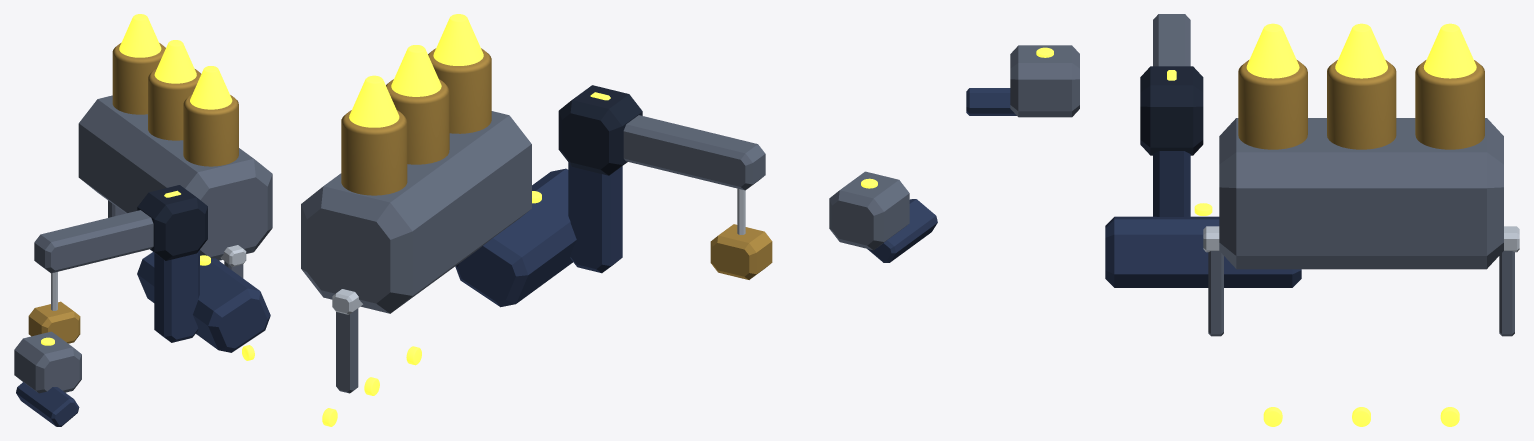
The model's file is tower_nova_rate_s7.glb.
3 renders of one model, left to right at view 1: azimuth 30°, elevation 25°; view 2: azimuth 150°, elevation 25°; view 3: azimuth 270°, elevation 25°, orthographic. The views are drawn at different scales.
Parts seen in each view (by area): view 1: nova_hopper_ext, nova_hoist_chute_b, nova_hoist_arm, nova_hoist_motor, nova_hoist_post, nova_shell_b0, nova_ejector_box, nova_shell_b2, nova_shell_b1, nova_ejector_chute, nova_hoist_grab, nova_shell_b_fuse1 (+4 smaller); view 2: nova_hopper_ext, nova_hoist_chute_b, nova_hoist_arm, nova_hoist_motor, nova_hoist_post, nova_ejector_box, nova_shell_b2, nova_shell_b1, nova_shell_b0, nova_hoist_grab, nova_hoist_rail_post0.46, nova_shell_b_fuse2 (+3 smaller); view 3: nova_hopper_ext, nova_hoist_chute_b, nova_hoist_motor, nova_shell_b0, nova_shell_b2, nova_shell_b1, nova_ejector_box, nova_hoist_post, nova_shell_b_fuse0, nova_shell_b_fuse2, nova_shell_b_fuse1, nova_hoist_arm (+4 smaller).
Part boxes in pixels (x1,y1,x2,y2): nova_hopper_ext: (78, 95, 272, 260); nova_hoist_chute_b: (137, 252, 270, 352); nova_hoist_arm: (34, 210, 153, 273); nova_hoist_motor: (137, 185, 207, 260); nova_hoist_post: (154, 250, 199, 342); nova_shell_b0: (183, 95, 238, 166); nova_ejector_box: (14, 331, 81, 393); nova_shell_b2: (112, 43, 165, 114); nova_shell_b1: (148, 68, 201, 140); nova_ejector_chute: (16, 382, 79, 426); nova_hoist_grab: (28, 301, 80, 343); nova_shell_b_fuse1: (154, 40, 196, 83); nova_hopper_ext: (301, 111, 531, 313); nova_hoist_chute_b: (455, 168, 576, 307); nova_hoist_arm: (623, 115, 765, 190); nova_hoist_motor: (558, 85, 642, 175); nova_hoist_post: (568, 162, 622, 273); nova_ejector_box: (829, 171, 909, 250); nova_shell_b2: (341, 110, 407, 195); nova_shell_b1: (386, 79, 449, 164); nova_shell_b0: (428, 48, 491, 133); nova_hoist_grab: (710, 224, 772, 279); nova_hoist_rail_post0.46: (336, 308, 358, 393); nova_shell_b_fuse2: (349, 75, 399, 127); nova_hopper_ext: (1219, 118, 1503, 269); nova_hoist_chute_b: (1105, 216, 1301, 287); nova_hoist_motor: (1140, 66, 1203, 155); nova_shell_b0: (1238, 60, 1307, 149); nova_shell_b2: (1415, 60, 1484, 149); nova_shell_b1: (1327, 60, 1396, 149); nova_ejector_box: (1010, 45, 1079, 117); nova_hoist_post: (1153, 151, 1190, 216); nova_shell_b_fuse0: (1246, 23, 1299, 78); nova_shell_b_fuse2: (1423, 23, 1476, 78); nova_shell_b_fuse1: (1335, 23, 1387, 78); nova_hoist_arm: (1153, 14, 1190, 66).
Bounding box in the file's own units: 1.5 × 1.31 × 1.75.
